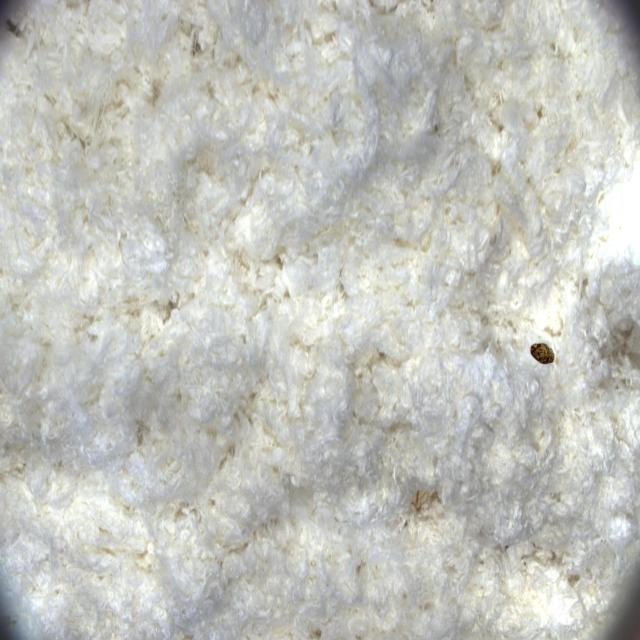dust: (523, 321, 570, 392)
